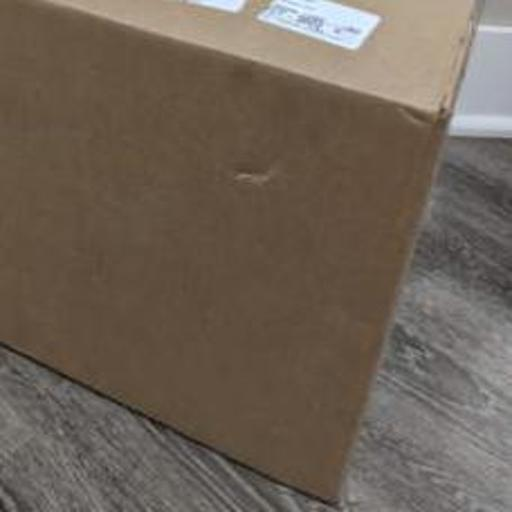Other: (0, 0, 485, 500)
